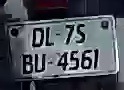1: (91, 49, 101, 70)
4: (55, 51, 69, 73)
5: (68, 49, 81, 75)
6: (80, 49, 94, 74)
7: (63, 22, 76, 48)
B: (20, 50, 34, 77)
D: (30, 27, 45, 49)
L: (44, 26, 57, 49)
S: (75, 23, 88, 49)
U: (34, 53, 47, 76)
